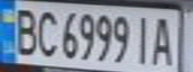6: (57, 8, 81, 60)
9: (93, 10, 115, 62), (112, 11, 133, 64), (75, 9, 96, 61)
A: (148, 12, 178, 68)
B: (9, 3, 42, 57)
C: (33, 6, 60, 58)
I: (130, 11, 157, 65)
